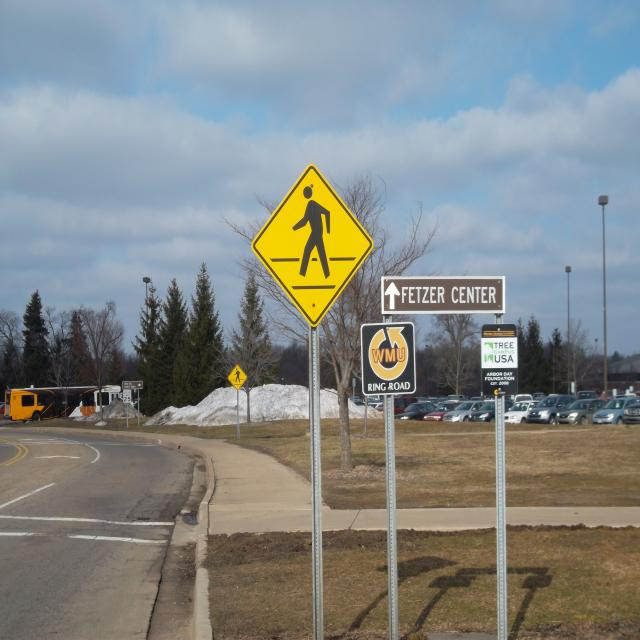regulatory: (123, 388, 131, 404)
warning: (251, 158, 374, 330), (228, 363, 248, 391)
